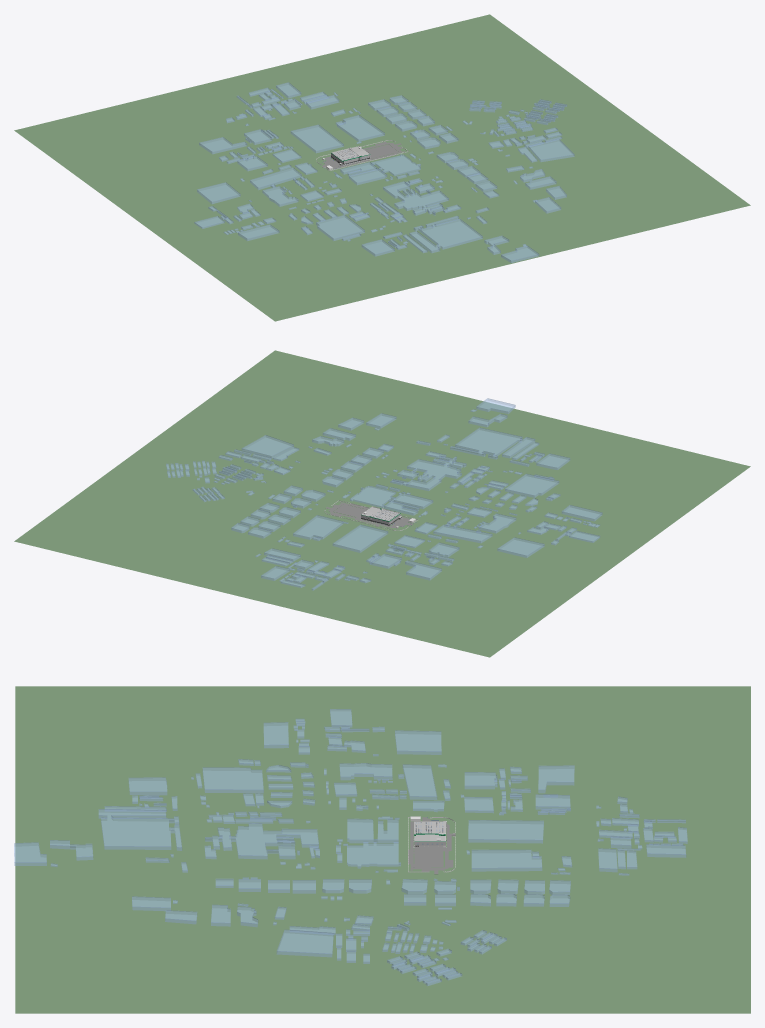
File: SND_yuanqu1.glb
3 views of the same model, one above another, from view 1: azimuth 30°, elevation 25°; view 2: azimuth 150°, elevation 25°; view 3: azimuth 270°, elevation 25° (orthographic). The views are drawn at different scales.
Visible parts, largest first — view 1: Asset3DLoader.sceneRoot; view 2: Asset3DLoader.sceneRoot; view 3: Asset3DLoader.sceneRoot.
Part boxes in pixels (x1,y1,x2,y2): Asset3DLoader.sceneRoot: (14,14,750,321); Asset3DLoader.sceneRoot: (14,350,750,657); Asset3DLoader.sceneRoot: (14,686,750,1013).
Bounding box in the file's own units: 1928240 × 26051 × 1835492.
